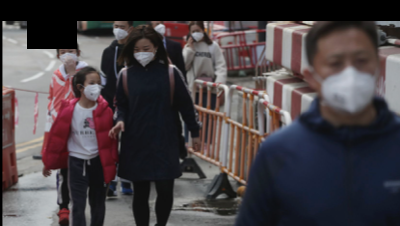with_mask: (315, 47, 377, 117), (133, 43, 155, 67), (83, 78, 102, 101), (59, 46, 78, 65), (112, 23, 129, 41), (190, 27, 204, 42), (153, 22, 166, 35)
